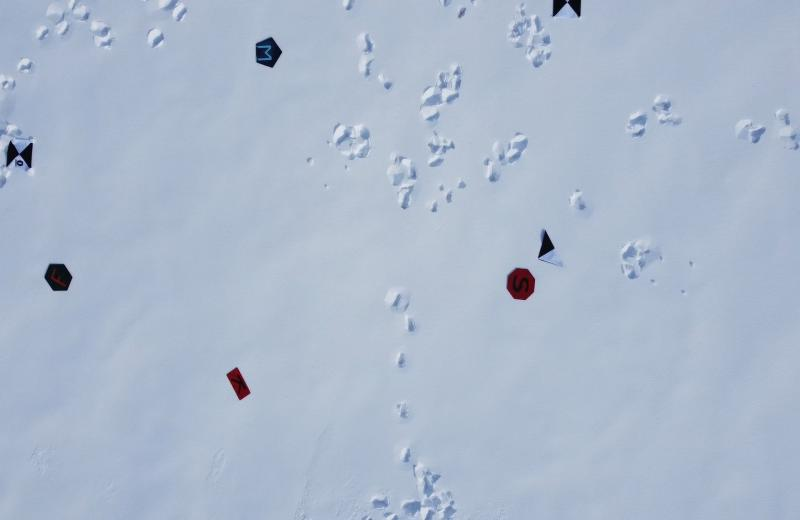Hexagon: (42, 259, 76, 294)
Octagon: (502, 262, 538, 302)
Pentagon: (251, 34, 285, 71)
Rectangle: (222, 365, 252, 402)
